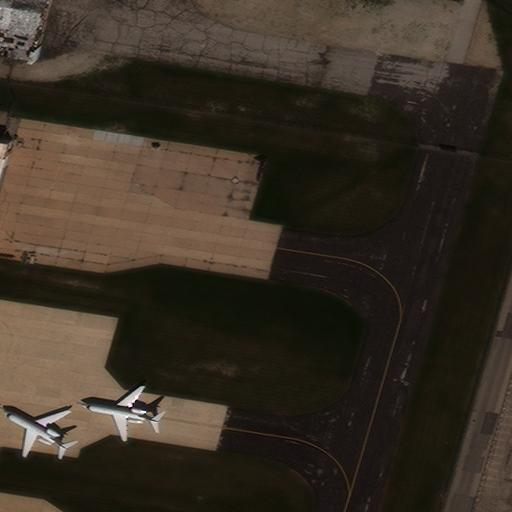Medium Civil Transport: (82, 385, 161, 442), (3, 408, 67, 457)
